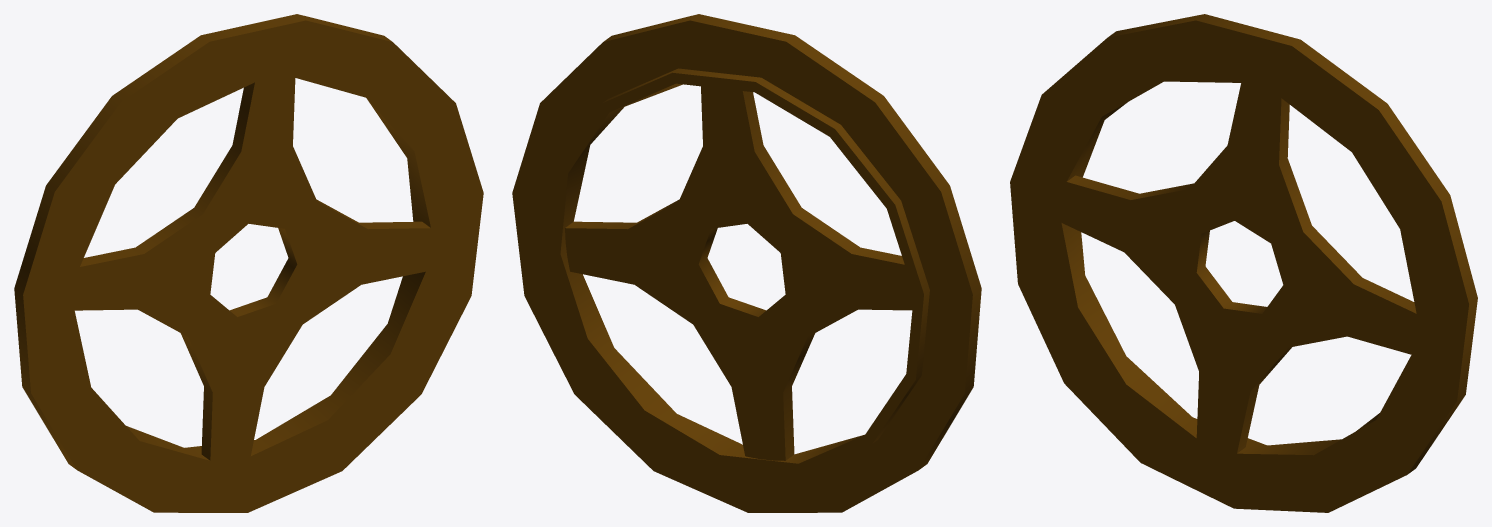
The model's file is Disque barillet avant_Heures.obj.
The picture shows the model from 3 angles, left to right: view 1: azimuth 30°, elevation 25°; view 2: azimuth 150°, elevation 25°; view 3: azimuth 330°, elevation 25°; orthographic projection.
Parts seen in each view (by area): view 1: Face_4, Face_7, Face_2, Face_13, Face_12, Face_14, Face_10, Face_6; view 2: Face_3, Face_1, Face_15, Face_7, Face_2, Face_16, Face_13, Face_12, Face_14, Face_10, Face_6; view 3: Face_4, Face_2, Face_7, Face_6, Face_5, Face_14, Face_12, Face_9.
Boxes of the visible parts, <box> form: Face_4: <box>23,20,483,512</box>; Face_7: <box>126,99,430,460</box>; Face_2: <box>14,14,392,469</box>; Face_13: <box>194,82,254,213</box>; Face_12: <box>80,208,202,266</box>; Face_14: <box>229,228,297,316</box>; Face_10: <box>180,333,212,460</box>; Face_6: <box>316,199,430,229</box>; Face_3: <box>512,20,972,512</box>; Face_1: <box>565,86,913,460</box>; Face_15: <box>550,72,923,474</box>; Face_7: <box>560,83,864,463</box>; Face_2: <box>603,14,981,469</box>; Face_16: <box>603,68,929,443</box>; Face_13: <box>742,91,801,213</box>; Face_12: <box>793,208,904,264</box>; Face_14: <box>698,228,766,316</box>; Face_10: <box>783,333,815,460</box>; Face_6: <box>565,199,679,229</box>; Face_4: <box>1010,20,1468,512</box>; Face_2: <box>1108,14,1477,474</box>; Face_7: <box>1061,102,1379,455</box>; Face_6: <box>1303,226,1416,313</box>; Face_5: <box>1279,98,1311,231</box>; Face_14: <box>1196,230,1266,313</box>; Face_12: <box>1067,175,1193,199</box>; Face_9: <box>1237,347,1291,453</box>.
Size of the model in its own units: 0.0452 by 0.0451 by 0.0025.
